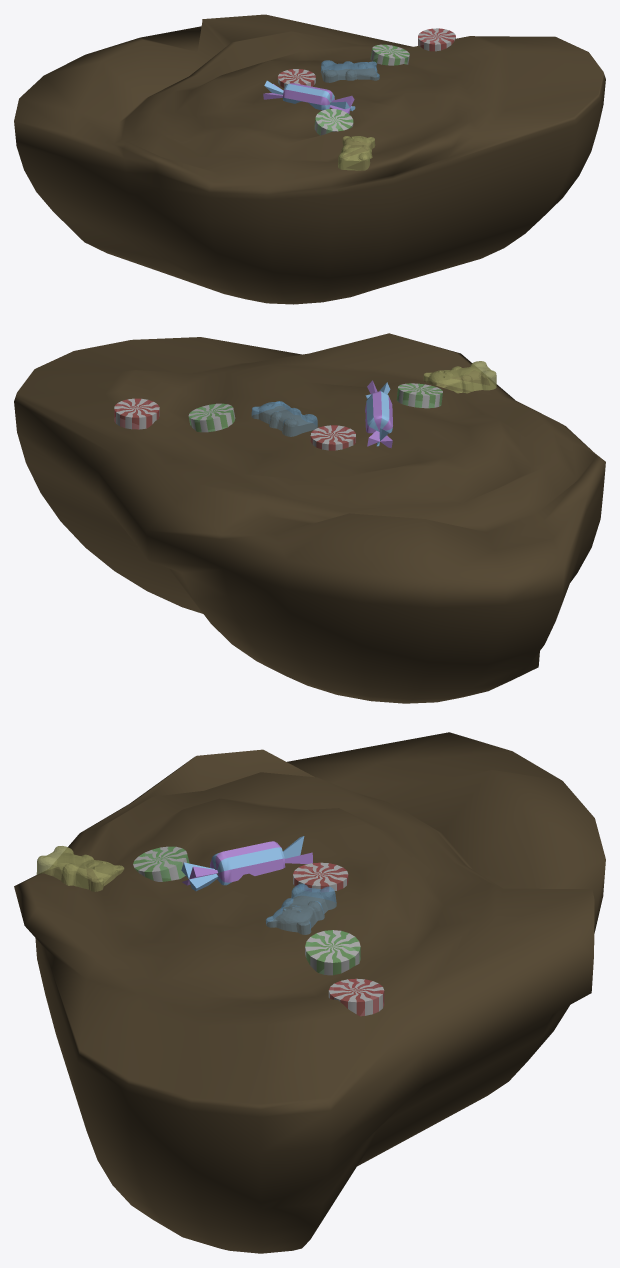
The model's file is CHOCOLATE LAKE.fbx.
3 renders of one model, top to bottom at view 1: azimuth 30°, elevation 25°; view 2: azimuth 150°, elevation 25°; view 3: azimuth 270°, elevation 25°, orthographic. The views are drawn at different scales.
Parts seen in each view (by area): view 1: polySurface711, polySurface510, polySurface515, polySurface503, polySurface504, polySurface529, polySurface500, polySurface509; view 2: polySurface711, polySurface515, polySurface510, polySurface503, polySurface529, polySurface500, polySurface504, polySurface509; view 3: polySurface711, polySurface510, polySurface515, polySurface503, polySurface500, polySurface529, polySurface504, polySurface509.
Part boxes in pixels (bbox=[...]): polySurface711: bbox=[14, 14, 605, 304]; polySurface510: bbox=[263, 80, 355, 113]; polySurface515: bbox=[338, 136, 375, 170]; polySurface503: bbox=[321, 60, 379, 82]; polySurface504: bbox=[314, 109, 353, 135]; polySurface529: bbox=[418, 28, 455, 51]; polySurface500: bbox=[370, 44, 409, 65]; polySurface509: bbox=[277, 69, 315, 88]; polySurface711: bbox=[14, 333, 605, 703]; polySurface515: bbox=[423, 361, 496, 393]; polySurface510: bbox=[365, 380, 392, 448]; polySurface503: bbox=[251, 401, 317, 436]; polySurface529: bbox=[114, 398, 159, 429]; polySurface500: bbox=[188, 403, 235, 432]; polySurface504: bbox=[396, 383, 442, 408]; polySurface509: bbox=[310, 425, 355, 450]; polySurface711: bbox=[14, 732, 605, 1253]; polySurface510: bbox=[181, 836, 312, 891]; polySurface515: bbox=[36, 846, 124, 891]; polySurface503: bbox=[266, 883, 336, 934]; polySurface500: bbox=[305, 930, 360, 975]; polySurface529: bbox=[328, 978, 384, 1016]; polySurface504: bbox=[133, 846, 189, 881]; polySurface509: bbox=[293, 862, 348, 892].
Size of the model in its own units: 6.13 by 2.39 by 4.24.
